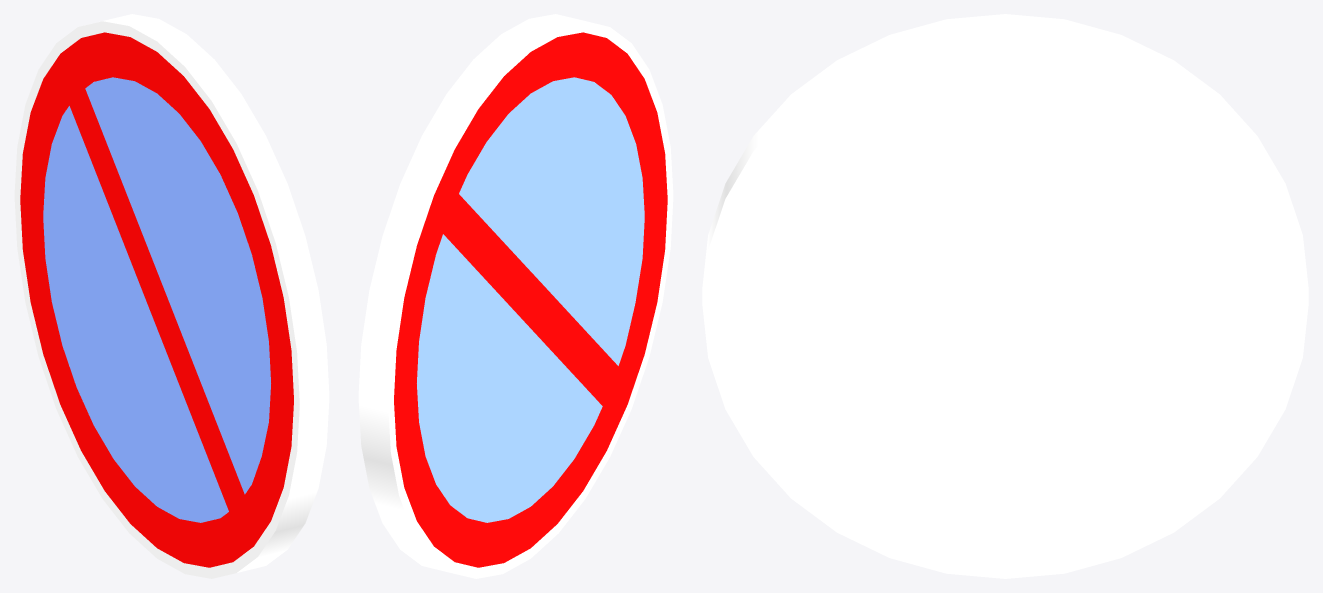
File: No_Long_Time_Parking.glb
3 renders of one model, left to right at view 1: azimuth 30°, elevation 25°; view 2: azimuth 150°, elevation 25°; view 3: azimuth 270°, elevation 25°, orthographic. The views are drawn at different scales.
Visible parts, largest first — view 1: No_Long_Time_Parking; view 2: No_Long_Time_Parking; view 3: No_Long_Time_Parking.
Part boxes in pixels (x1,y1,x2,y2): No_Long_Time_Parking: (14, 14, 329, 578); No_Long_Time_Parking: (358, 14, 673, 578); No_Long_Time_Parking: (702, 14, 1308, 578).
Bounding box in the file's own units: 0.06 × 1 × 1.
